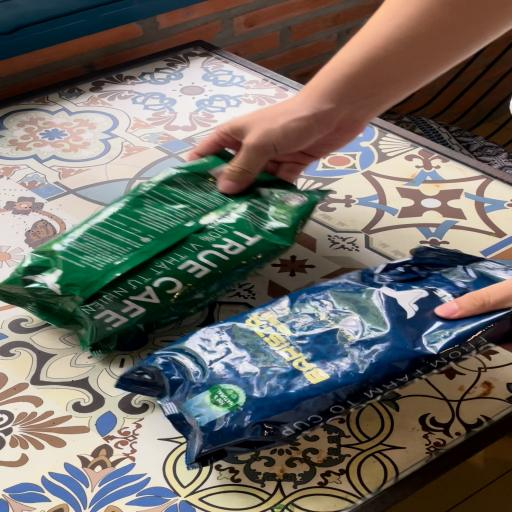cafe_hat: (116, 246, 512, 469)
cafe_xay: (0, 151, 323, 353)
